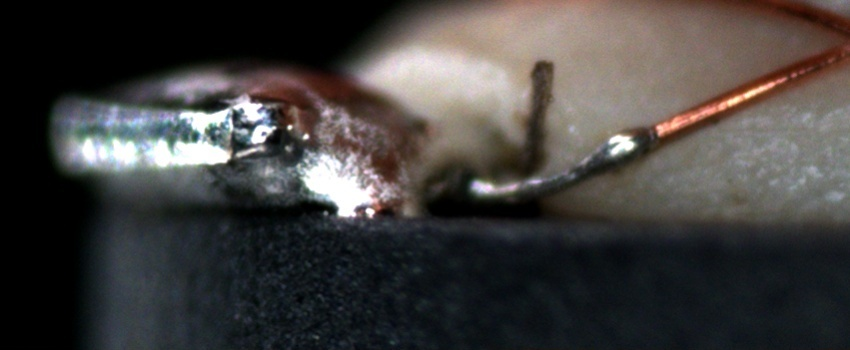DL: (712, 97, 849, 161)
TB: (594, 123, 666, 171)
TS: (464, 128, 654, 203)
TTCW: (459, 97, 726, 205)
